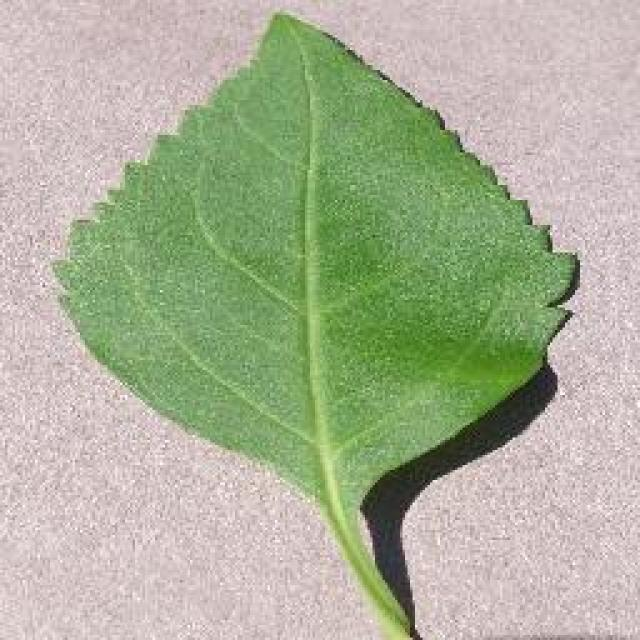Cherry___healthy: (35, 0, 587, 638)
